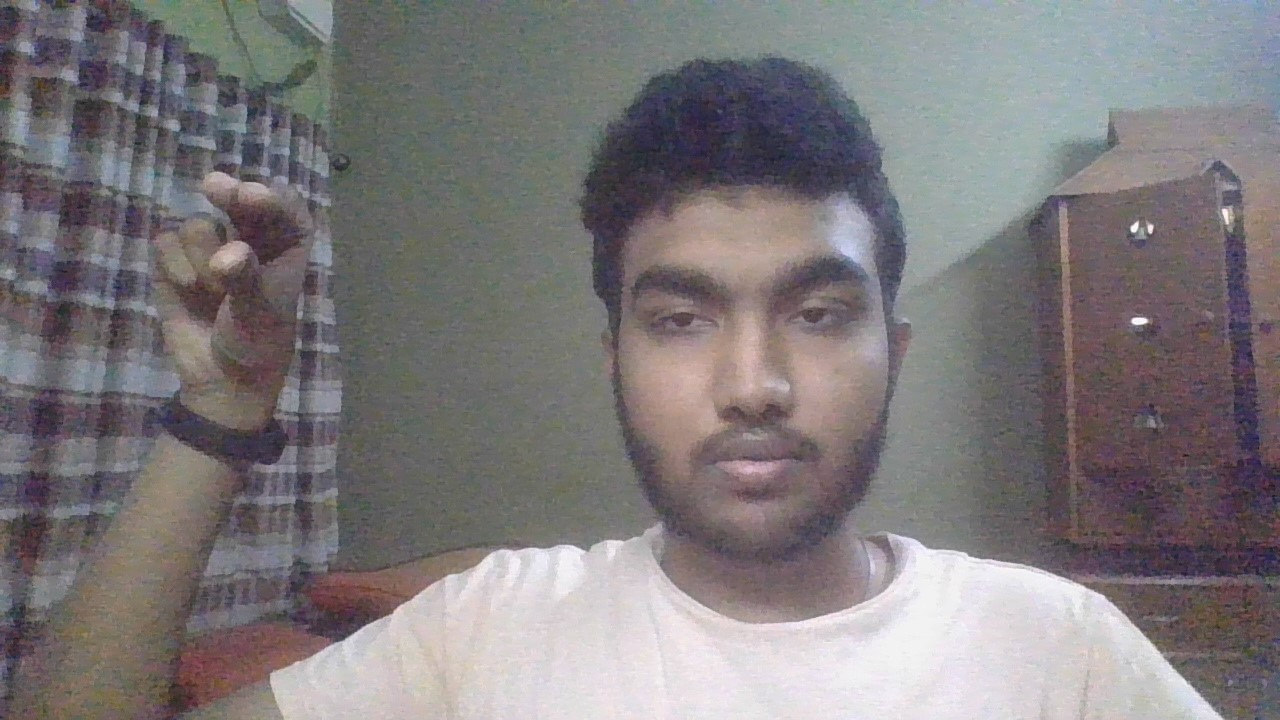No: (136, 158, 367, 440)
